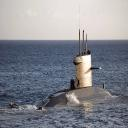submarine: (10, 32, 113, 111)
